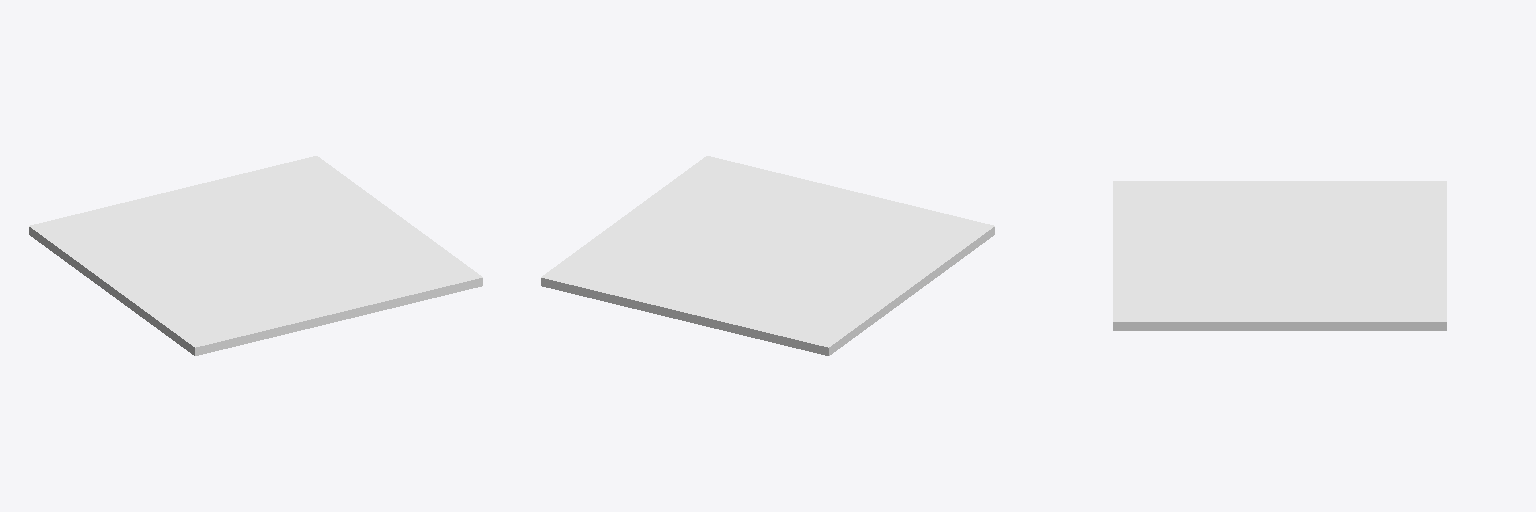
The model's file is load_C.obj.
3 renders of one model, left to right at view 1: azimuth 30°, elevation 25°; view 2: azimuth 150°, elevation 25°; view 3: azimuth 270°, elevation 25°, orthographic.
Bounding box in the file's own units: 35 × 1 × 35.